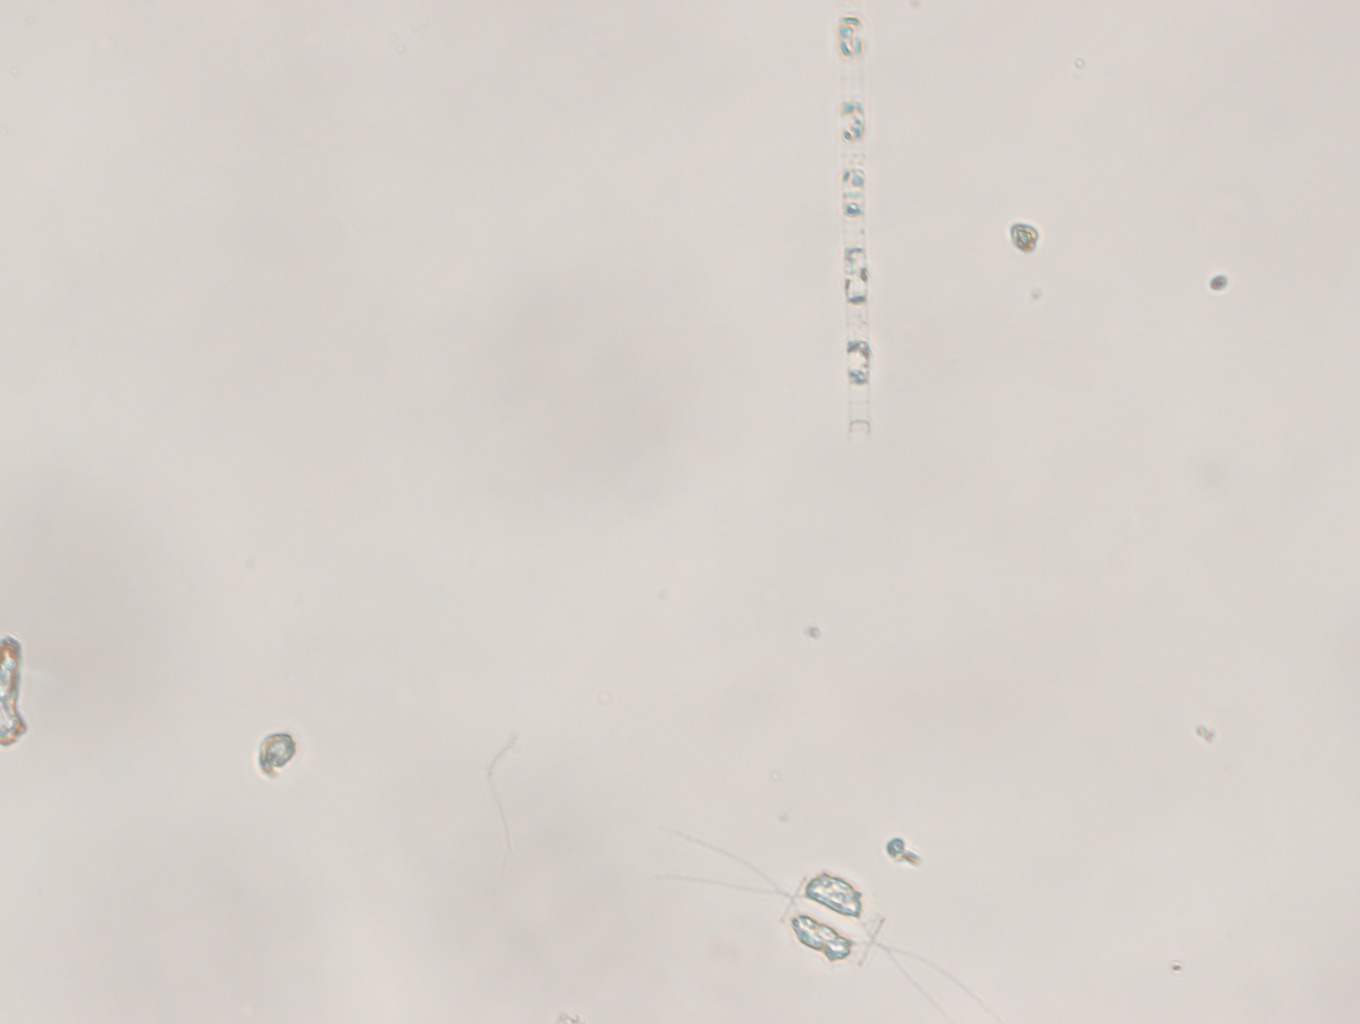chaetoceros: (659, 816, 1010, 1022)
skeletonema: (821, 13, 887, 470)
